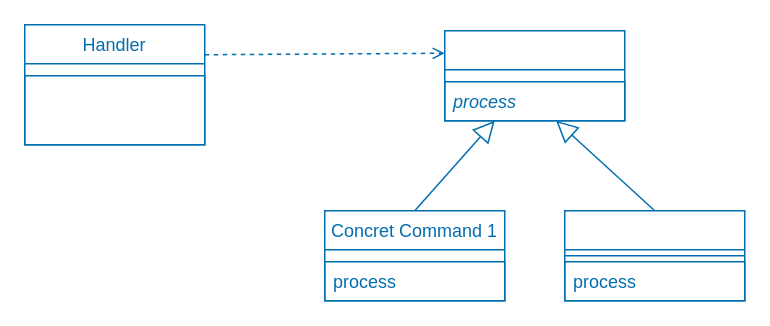
This 770x326 diagram has some shape labels left out. Here are the shapes that lost their labels. From the top down, the box of each, then its label:
(443, 29, 625, 121): Abstract Command
(23, 74, 205, 145): doGet doPost
(563, 209, 745, 301): Concret Command 2
